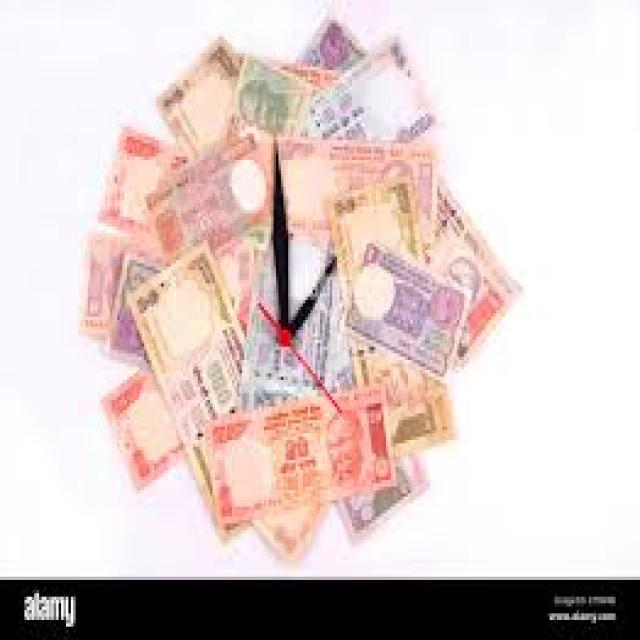money: (207, 379, 401, 510)
